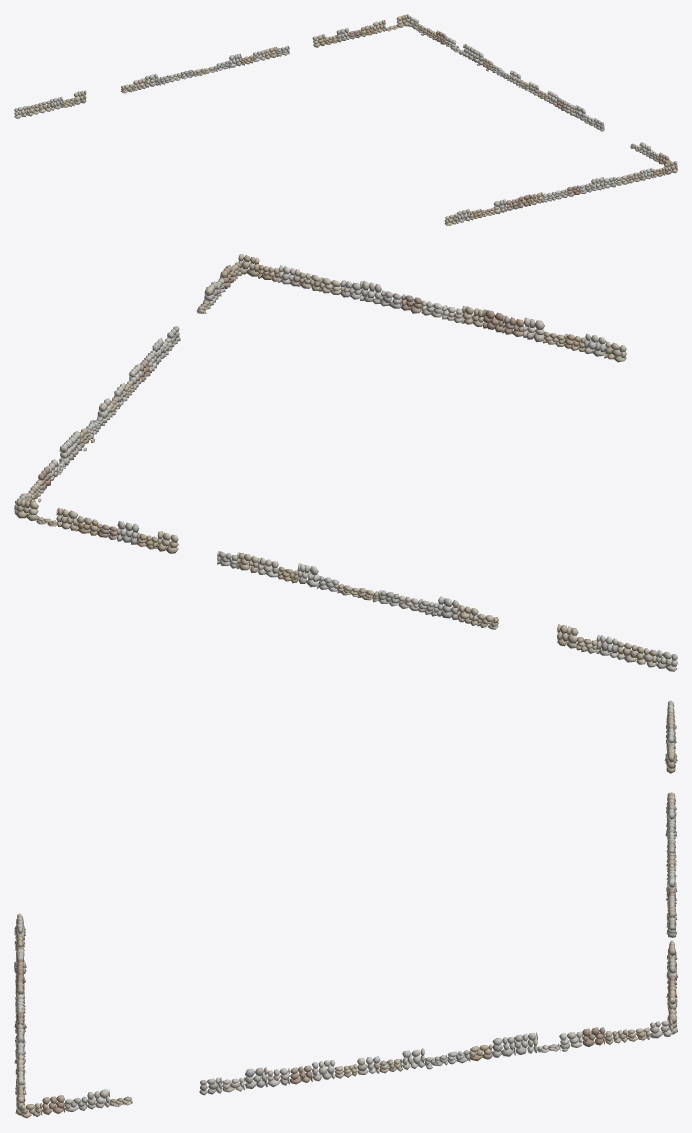
The model's file is farm_23_13_near.glb.
3 views of the same model, one above another, from view 1: azimuth 30°, elevation 25°; view 2: azimuth 150°, elevation 25°; view 3: azimuth 270°, elevation 25° (orthographic). The views are drawn at different scales.
Visible parts, largest first — view 1: geometry_0; view 2: geometry_0; view 3: geometry_0.
Boxes of the visible parts, <box> form: geometry_0: <box>14,14,677,225</box>; geometry_0: <box>14,254,677,671</box>; geometry_0: <box>14,700,677,1118</box>.
Bounding box in the file's own units: 60.05 × 3.9 × 45.6.
